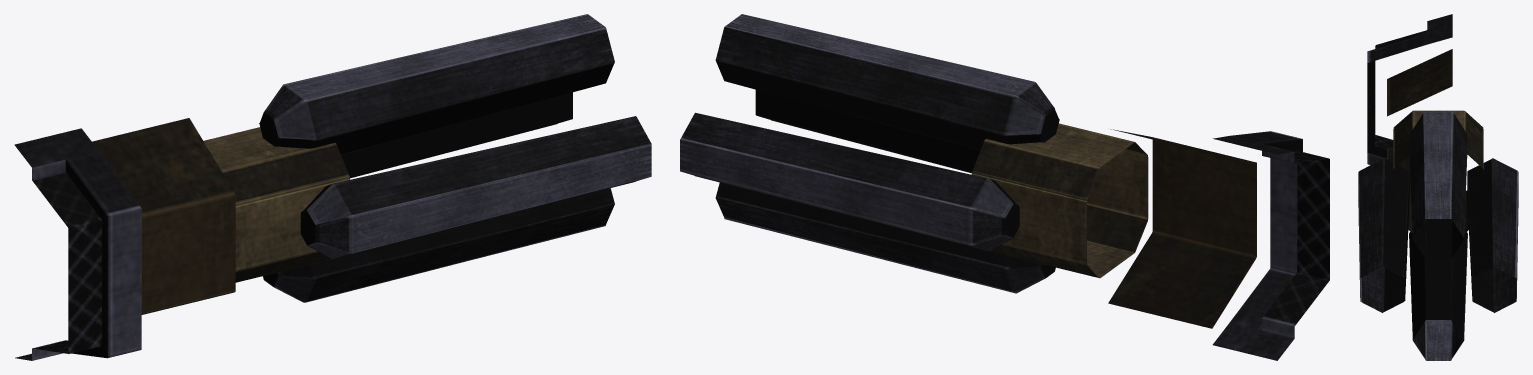
Rendered from v_nail2_5.obj.
3 renders of one model, left to right at view 1: azimuth 30°, elevation 25°; view 2: azimuth 150°, elevation 25°; view 3: azimuth 270°, elevation 25°, orthographic. The views are drawn at different scales.
Size of the model in its own units: 30.2 by 10.75 by 10.28.
Materials: 1 (1 with a texture image).
